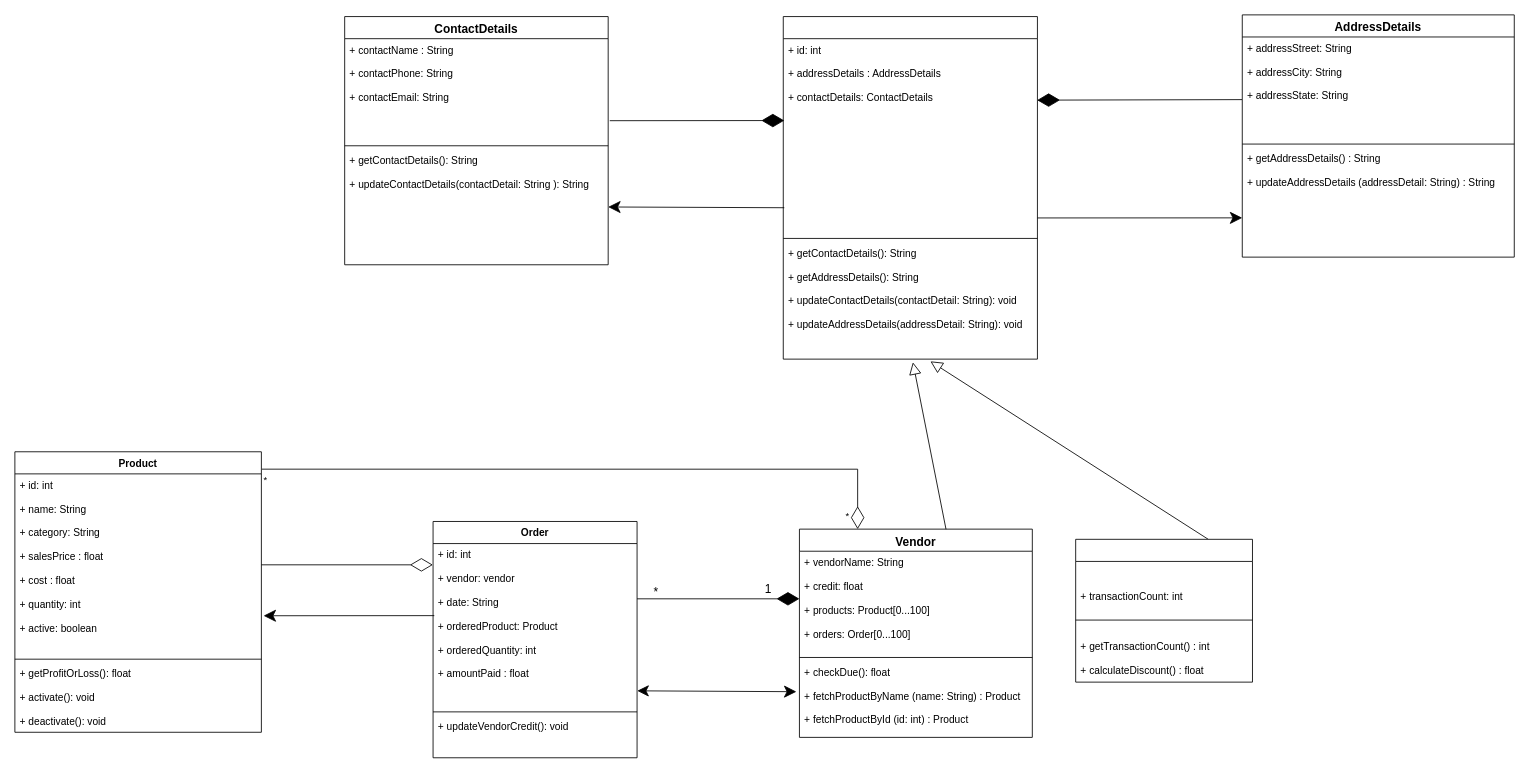
Image size: 1529x775. Some labels were removed from this diagram. Each missing label, with the box of its shape:
BusinessPartner: (782, 16, 1037, 359)
Customer: (1075, 538, 1252, 682)
